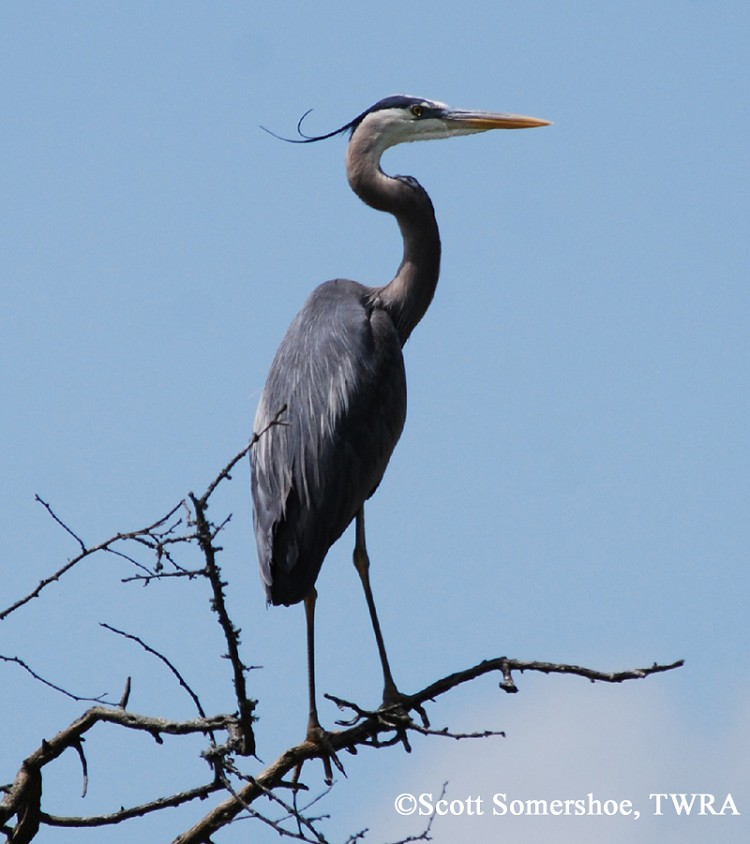heron: (223, 80, 562, 776)
